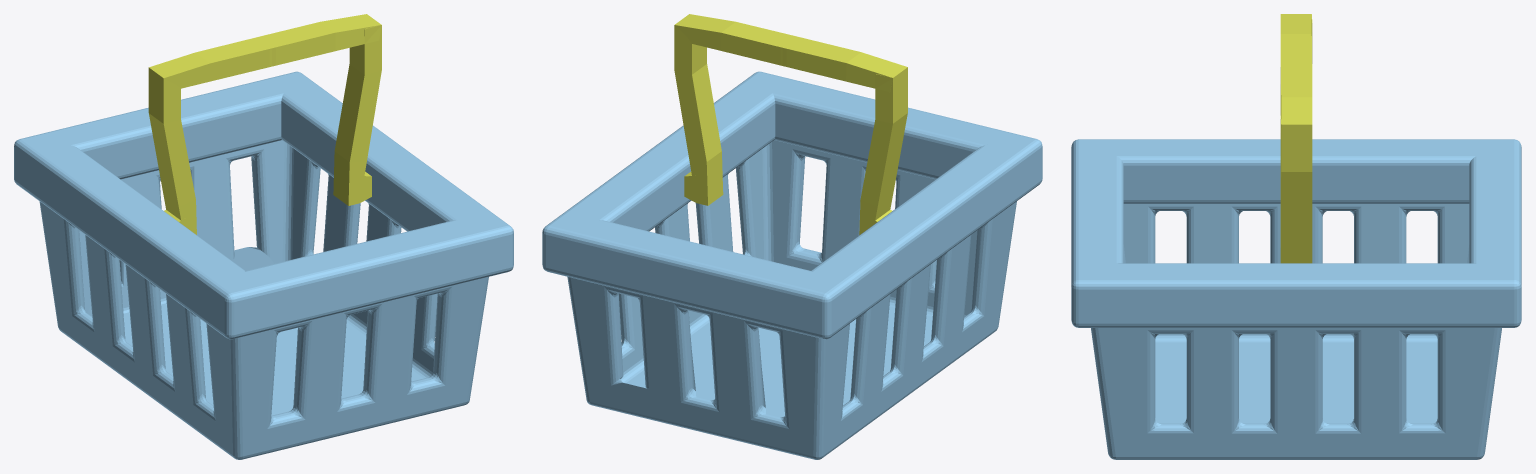
File: basket.fbx
The picture shows the model from 3 angles, left to right: view 1: azimuth 30°, elevation 25°; view 2: azimuth 150°, elevation 25°; view 3: azimuth 270°, elevation 25°; orthographic projection. The views are drawn at different scales.
Visible parts, largest first — view 1: cart, handle; view 2: cart, handle; view 3: cart, handle.
Boxes of the visible parts, <box> form: cart: <box>14,71,513,459</box>; handle: <box>148,14,381,234</box>; cart: <box>542,71,1042,459</box>; handle: <box>674,14,907,234</box>; cart: <box>1071,139,1521,459</box>; handle: <box>1280,14,1312,263</box>.
Size of the model in its own units: 33 by 35.63 by 43.
